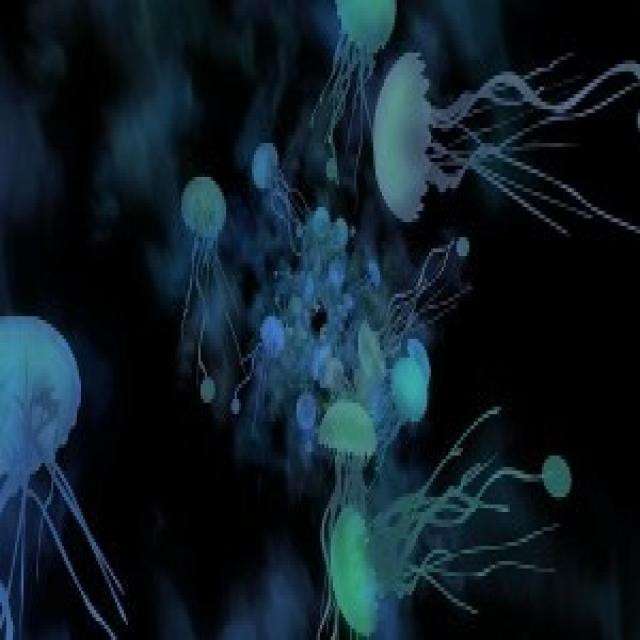Jellyfish: (374, 62, 604, 228), (0, 294, 92, 628), (326, 507, 502, 638), (169, 174, 230, 341), (309, 399, 385, 493), (250, 124, 293, 280), (326, 0, 401, 49)
